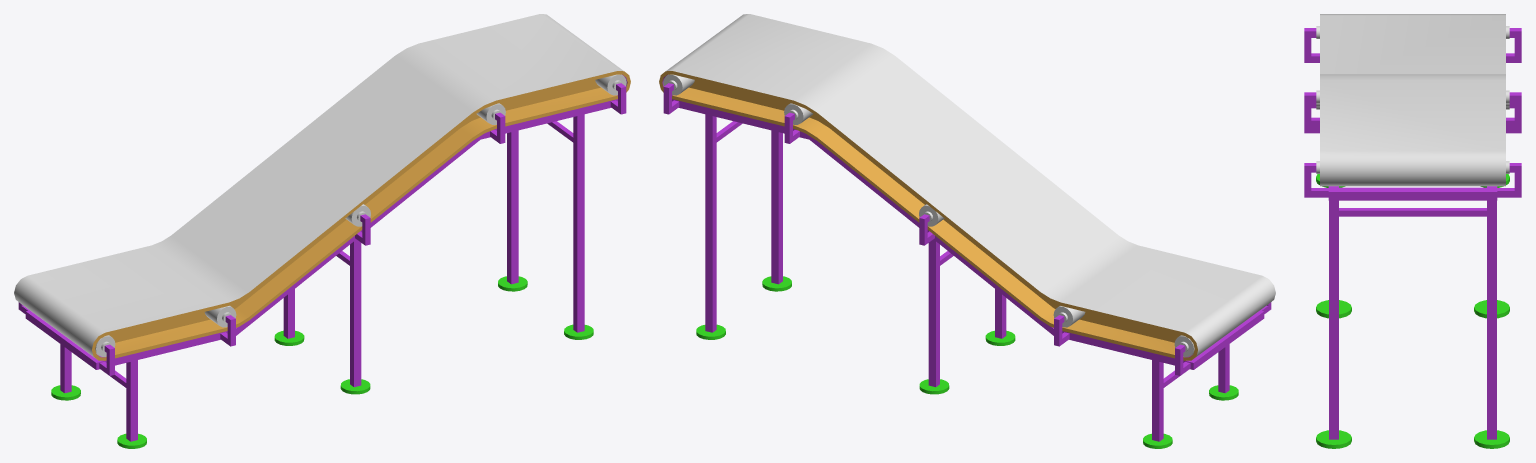
The model's file is mesh_conveyorBelt04.fbx.
The picture shows the model from 3 angles, left to right: view 1: azimuth 30°, elevation 25°; view 2: azimuth 150°, elevation 25°; view 3: azimuth 270°, elevation 25°; orthographic projection. The views are drawn at different scales.
Parts seen in each view (by area): view 1: mesh_conveyorBelt04; view 2: mesh_conveyorBelt04; view 3: mesh_conveyorBelt04.
Boxes of the visible parts, x1,y1,x2,y2 form: mesh_conveyorBelt04: (14,14,630,448); mesh_conveyorBelt04: (659,14,1275,448); mesh_conveyorBelt04: (1304,14,1521,448).
Size of the model in its own units: 400 by 184 by 117.
